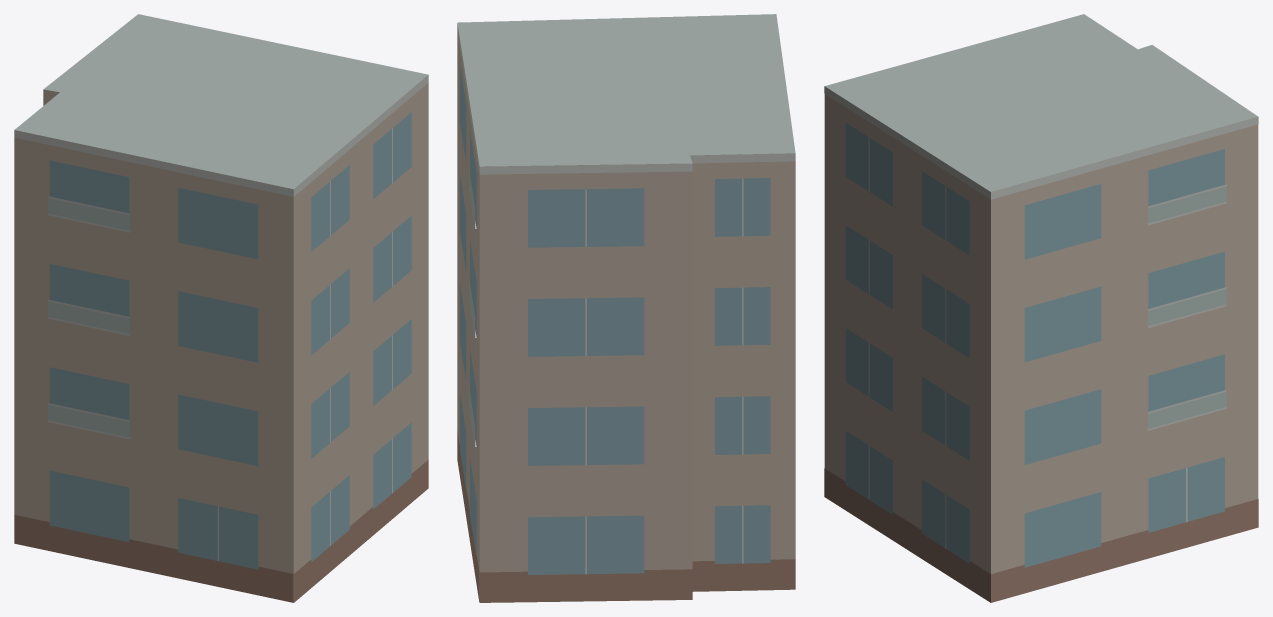
File: survey-upis-32805758.glb
3 renders of one model, left to right at view 1: azimuth 30°, elevation 25°; view 2: azimuth 150°, elevation 25°; view 3: azimuth 270°, elevation 25°, orthographic. The views are drawn at different scales.
Visible parts, largest first — view 1: survey-upis-32805758.tmp; view 2: survey-upis-32805758.tmp; view 3: survey-upis-32805758.tmp.
Part boxes in pixels (box(x1,y1,x2,y2)): survey-upis-32805758.tmp: box(14, 14, 428, 602); survey-upis-32805758.tmp: box(457, 14, 795, 602); survey-upis-32805758.tmp: box(824, 14, 1258, 602).
Size of the model in its own units: 12.27 by 13.19 by 12.64.
